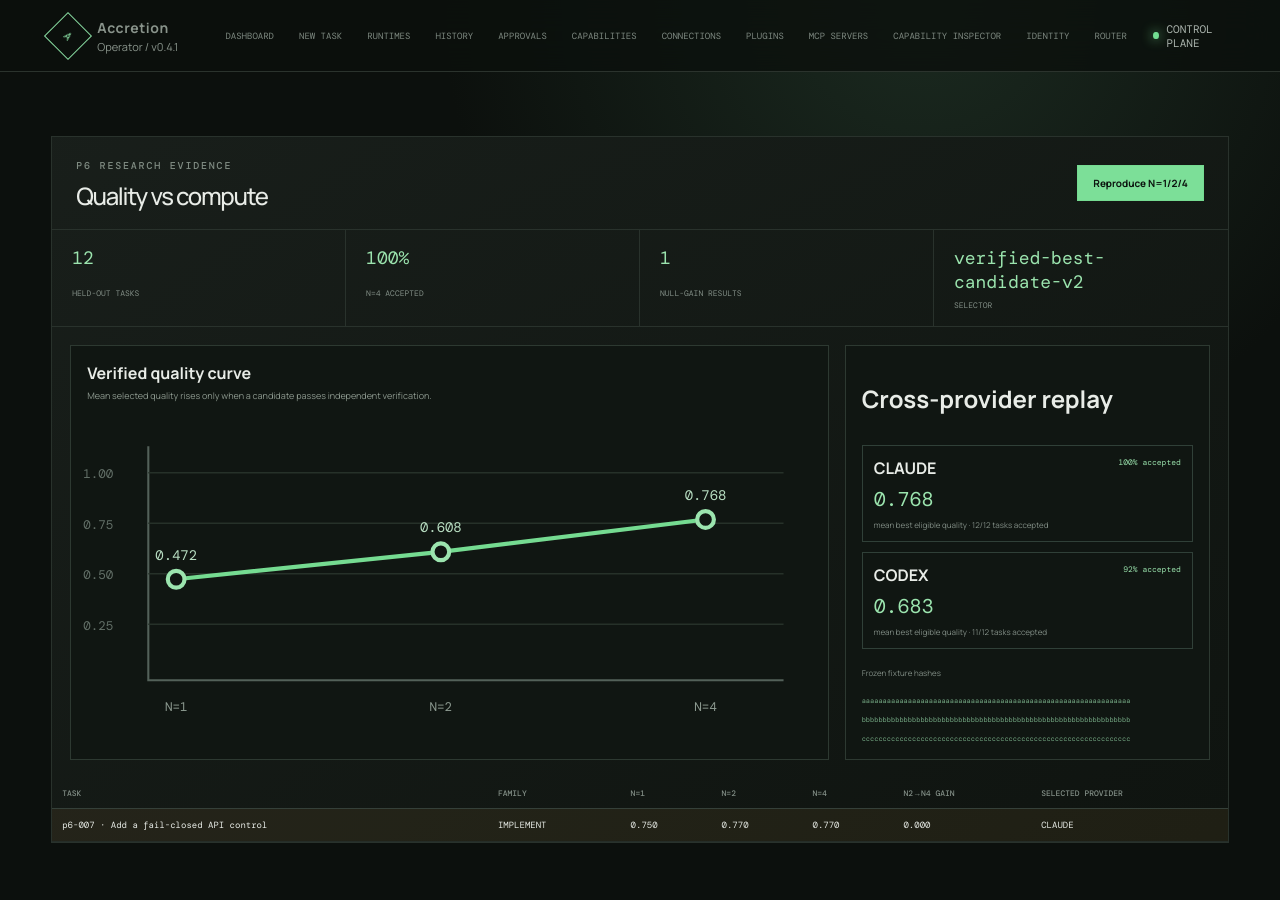
Scenario: renders and reproduces the frozen P6 N=1/2/4 search curve
Check: the picture named "Mean verified quality for one, two, and four candidates" is shown, box [87,410,812,730]
Check: the text "verified-best-candidate-v2" is shown, box [954,246,1105,294]
Click the button "Reproduce N=1/2/4": (1141, 183) [1077,165,1204,201]
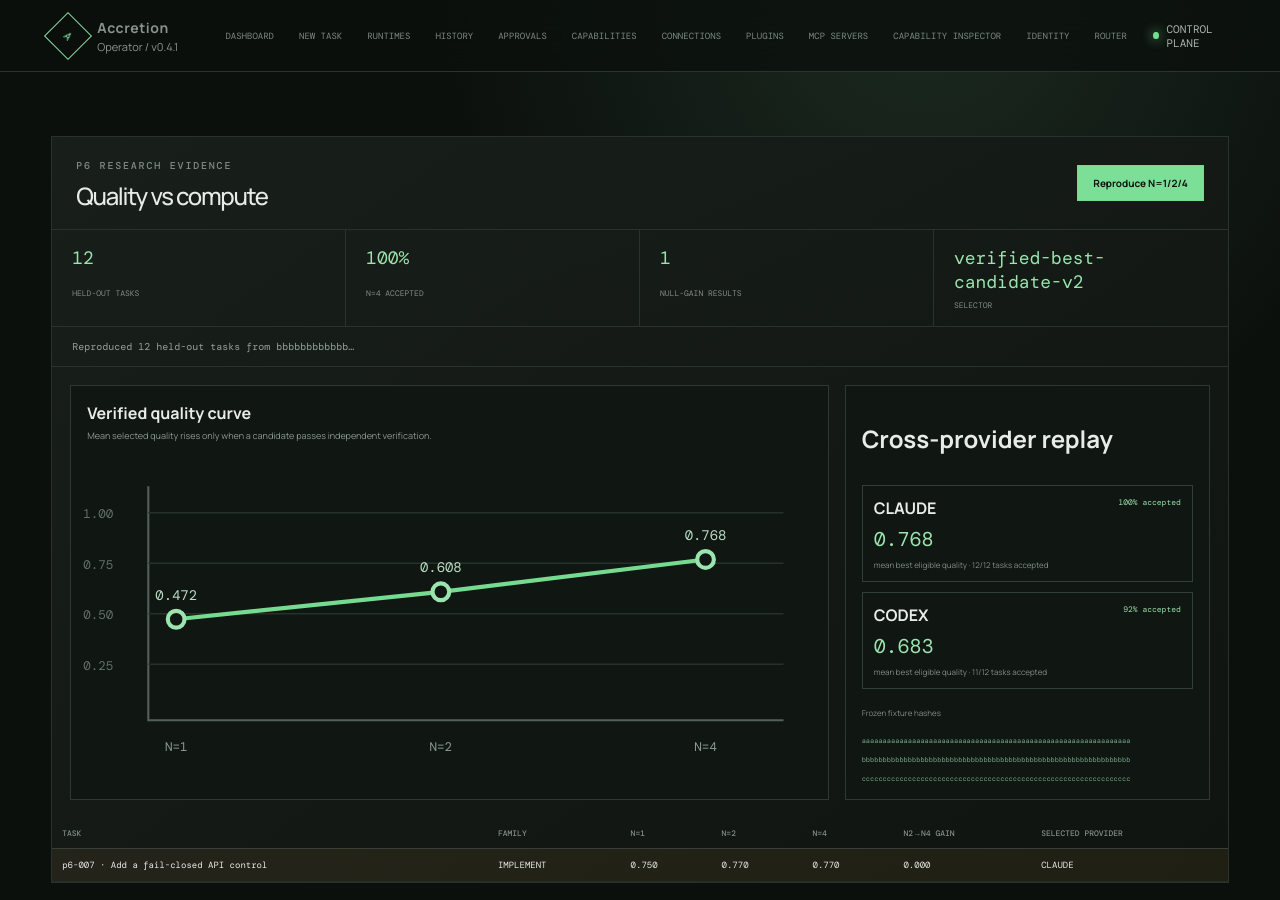
Check: the text "Reproduced 12 held-out tasks" is shown, box [72,340,354,353]
